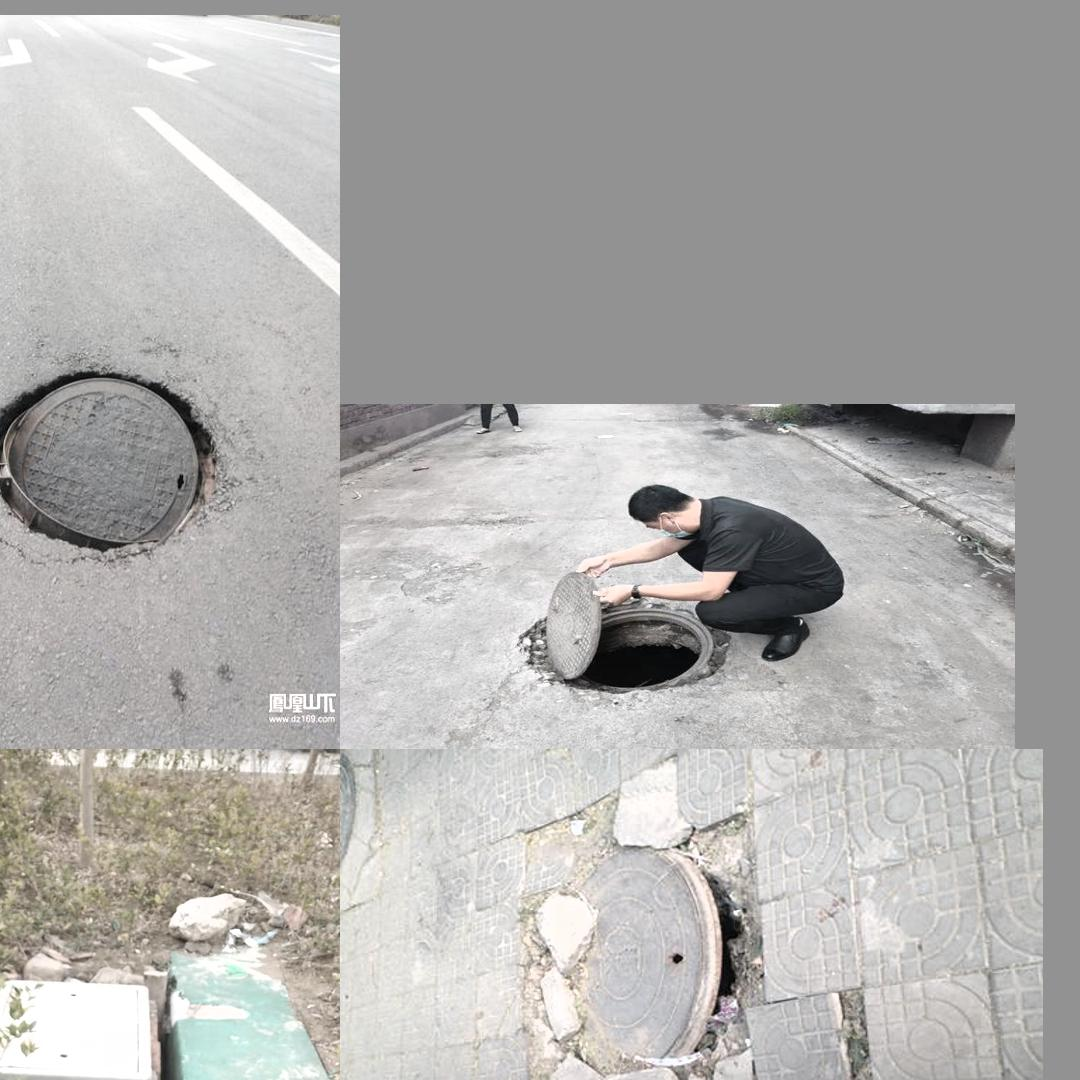circle: (515, 813, 791, 1080), (0, 355, 243, 568), (500, 581, 770, 705), (0, 969, 188, 1080)
